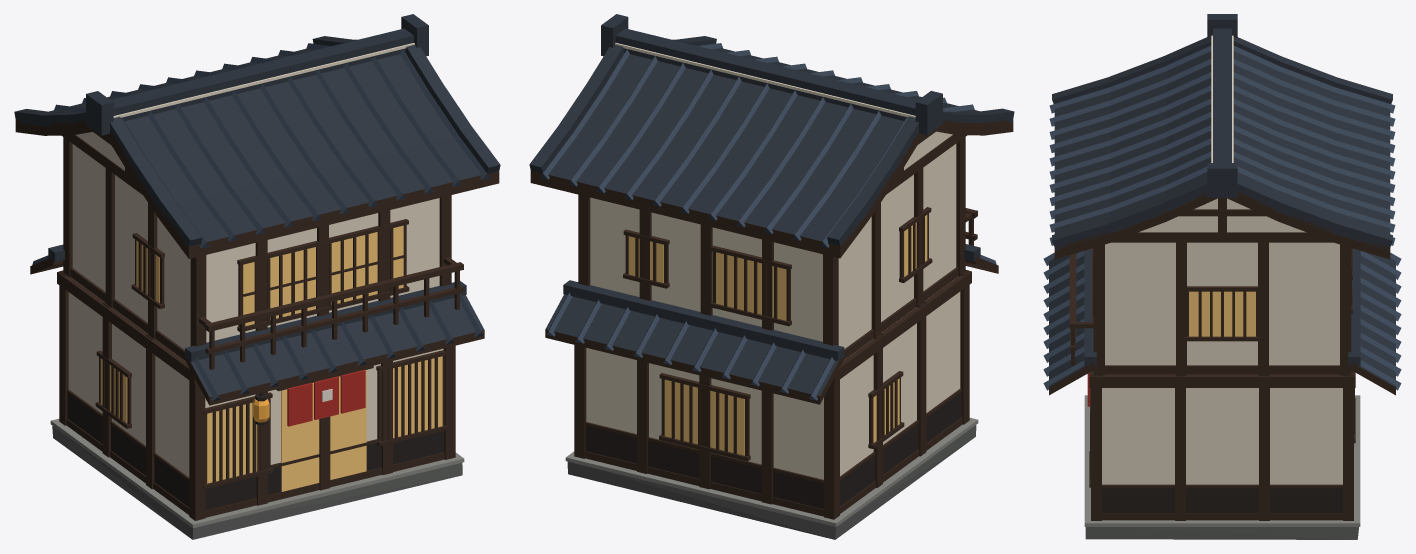
File: house_village_b.fbx
3 views of the same model, side by side, from view 1: azimuth 30°, elevation 25°; view 2: azimuth 150°, elevation 25°; view 3: azimuth 270°, elevation 25° (orthographic). The views are drawn at different scales.
Parts seen in each view (by area): view 1: house_village_b; view 2: house_village_b; view 3: house_village_b.
Boxes of the visible parts, x1,y1,x2,y2 form: house_village_b: [14, 14, 500, 539]; house_village_b: [529, 14, 1014, 539]; house_village_b: [1043, 14, 1401, 539].
Size of the model in its own units: 6.54 by 7.59 by 6.4.
